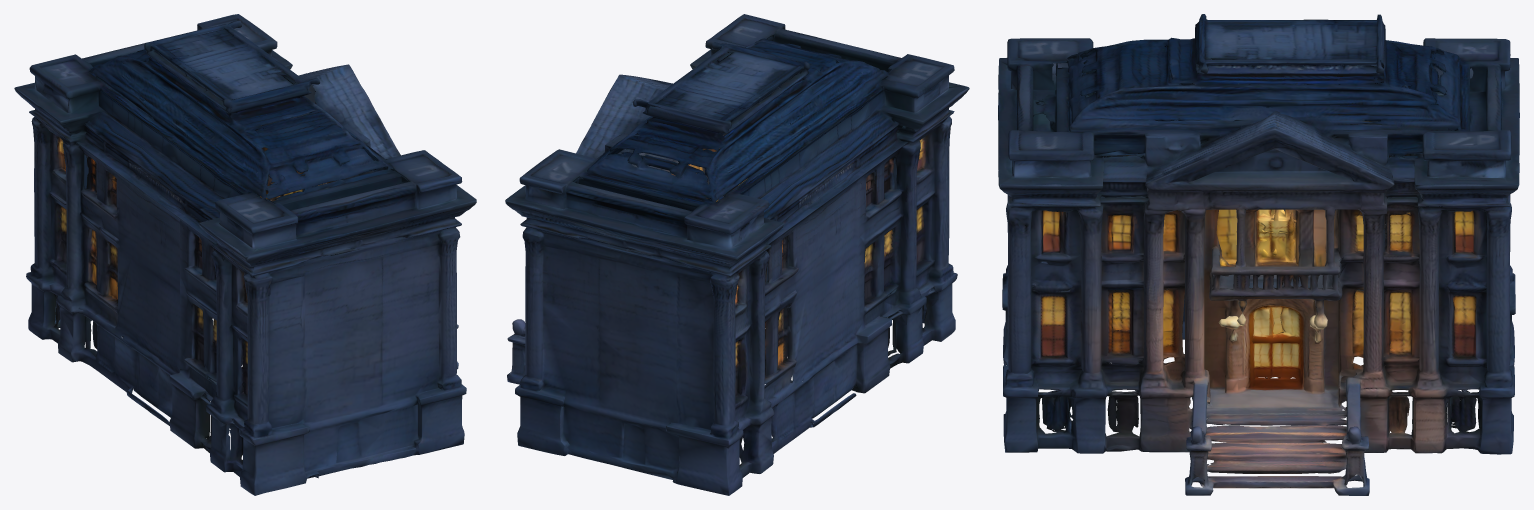
Rendered from building-court-alt.glb.
3 renders of one model, left to right at view 1: azimuth 30°, elevation 25°; view 2: azimuth 150°, elevation 25°; view 3: azimuth 270°, elevation 25°, orthographic. The views are drawn at different scales.
Visible parts, largest first — view 1: tripo_node_b1002fea-5671-4d64-a6b9-e7d1cfe56396; view 2: tripo_node_b1002fea-5671-4d64-a6b9-e7d1cfe56396; view 3: tripo_node_b1002fea-5671-4d64-a6b9-e7d1cfe56396.
Boxes of the visible parts, x1,y1,x2,y2 form: tripo_node_b1002fea-5671-4d64-a6b9-e7d1cfe56396: (14,14,476,495); tripo_node_b1002fea-5671-4d64-a6b9-e7d1cfe56396: (505,14,969,495); tripo_node_b1002fea-5671-4d64-a6b9-e7d1cfe56396: (998,14,1519,495).
Size of the model in its own units: 11.68 by 12 by 15.78.
Materials: 1 (1 with a texture image).
